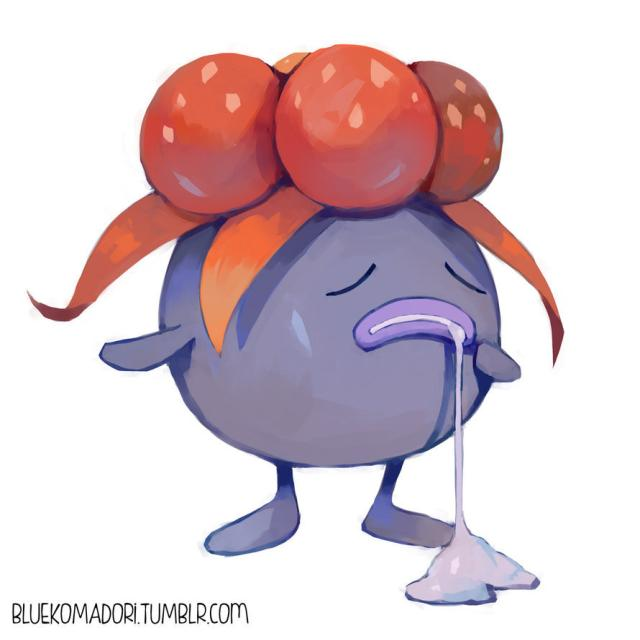Gloom: (150, 46, 510, 559)
